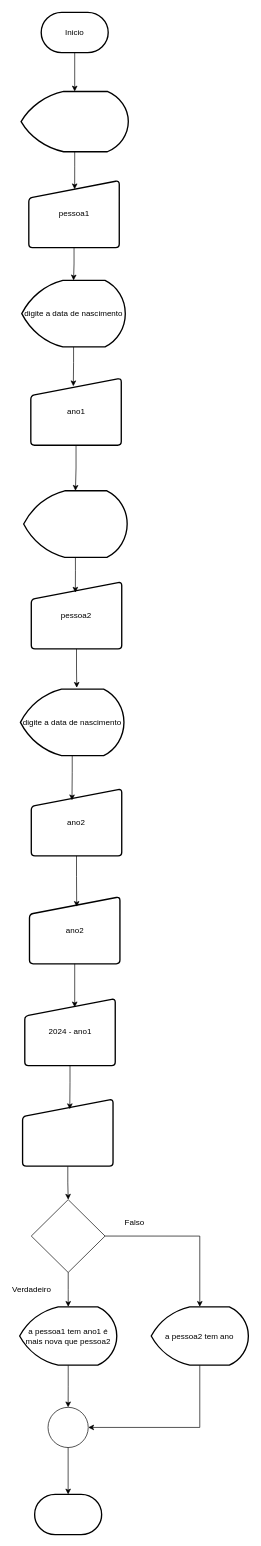
This 261x1546 diagram has some shape labels left out. The centre of each missing label's shape, as x and y in pixels:
2024 - ano2: the point at 67,1132
ano1 > ano2: the point at 68,1235
digite o nome da Primeira pessoa: the point at 74,121
digite o nome da segunda pessoa: the point at 75,524
Fim: the point at 68,1514
